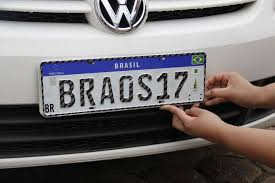car_plate: (36, 58, 205, 115)
